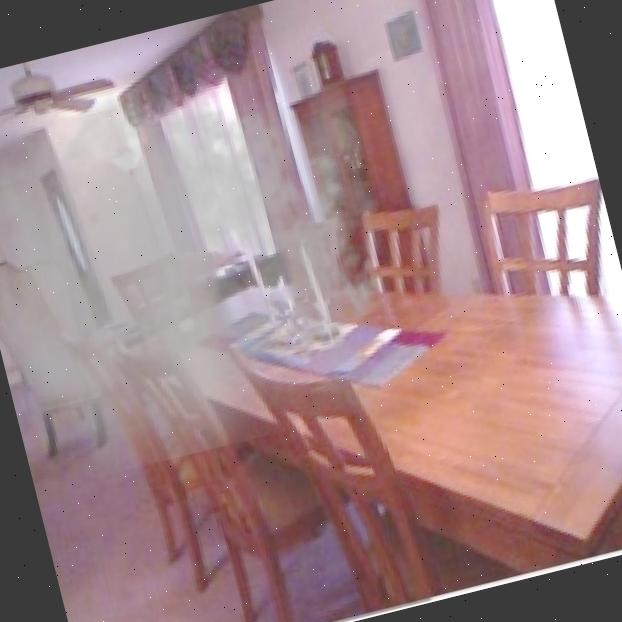smoke: (0, 17, 421, 490)
